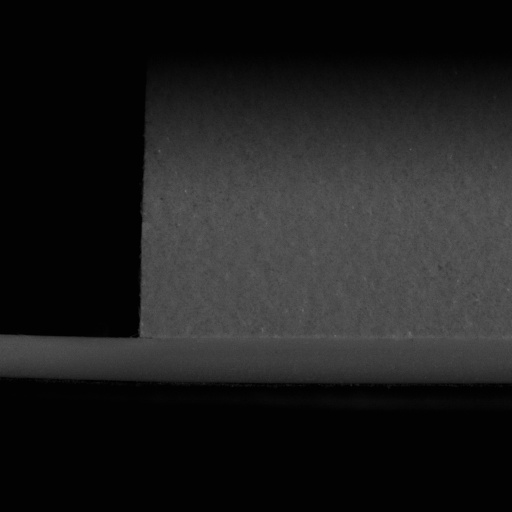changdai: (0, 332, 140, 385)
